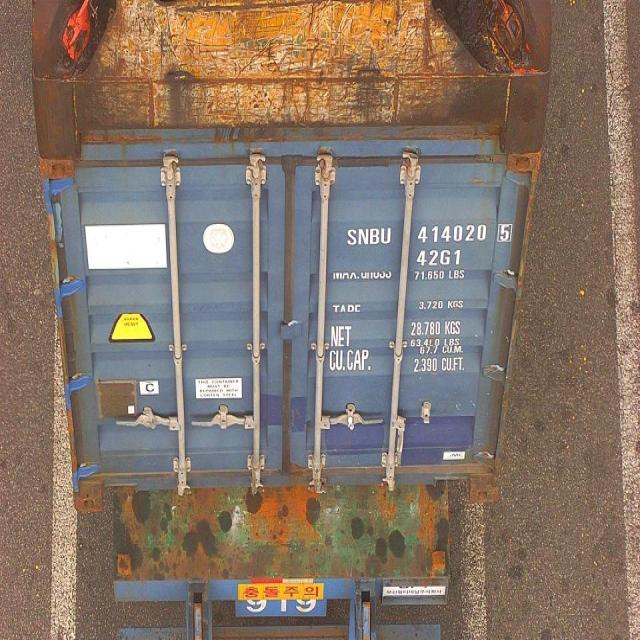ISO: (416, 249, 462, 269)
container_number: (348, 224, 516, 247)
